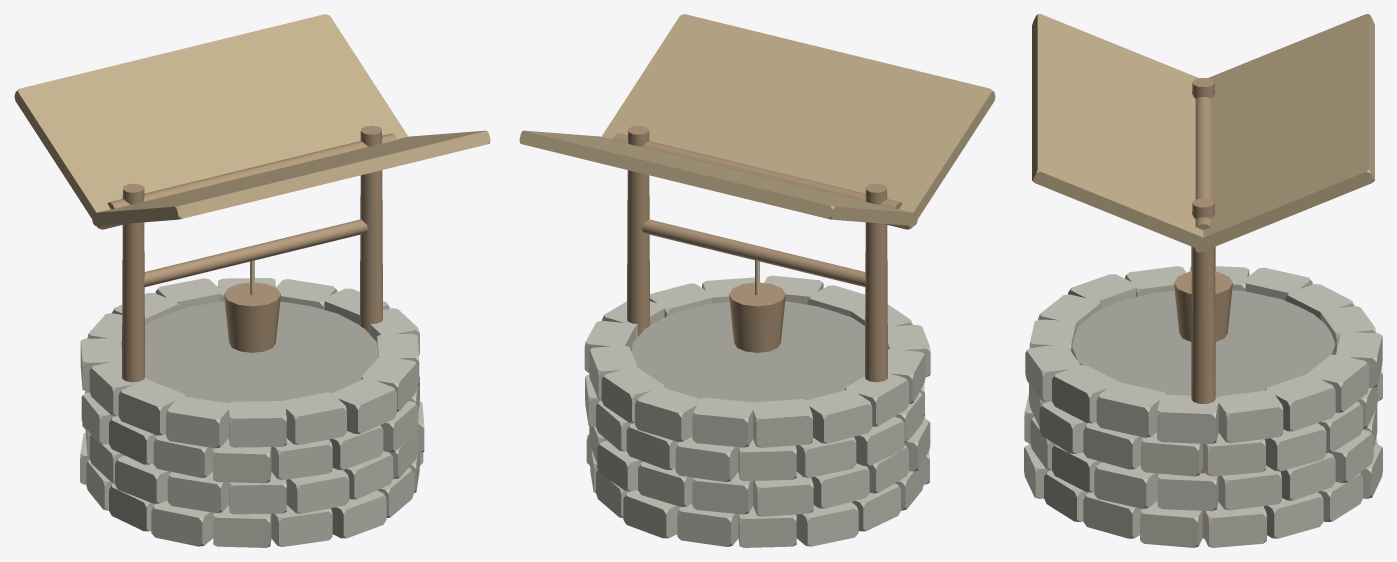
File: village_well.glb
3 views of the same model, side by side, from view 1: azimuth 30°, elevation 25°; view 2: azimuth 150°, elevation 25°; view 3: azimuth 270°, elevation 25° (orthographic). The views are drawn at different scales.
Parts seen in each view (by area): view 1: WellStones, WellCanopy, WellCore, WellTimberFrame; view 2: WellStones, WellCanopy, WellCore, WellTimberFrame; view 3: WellStones, WellCanopy, WellCore, WellTimberFrame.
Boxes of the visible parts, <box> form: WellStones: <box>80,278,424,547</box>; WellCanopy: <box>14,14,490,229</box>; WellCore: <box>145,301,378,403</box>; WellTimberFrame: <box>107,125,397,382</box>; WellStones: <box>584,275,930,547</box>; WellCanopy: <box>519,14,995,229</box>; WellCore: <box>631,301,864,402</box>; WellTimberFrame: <box>612,125,902,382</box>; WellStones: <box>1024,266,1382,547</box>; WellCanopy: <box>1032,14,1374,252</box>; WellCore: <box>1072,290,1335,397</box>; WellTimberFrame: <box>1174,78,1232,538</box>.
Bounding box in the file's own units: 2.15 × 2.42 × 2.07.
